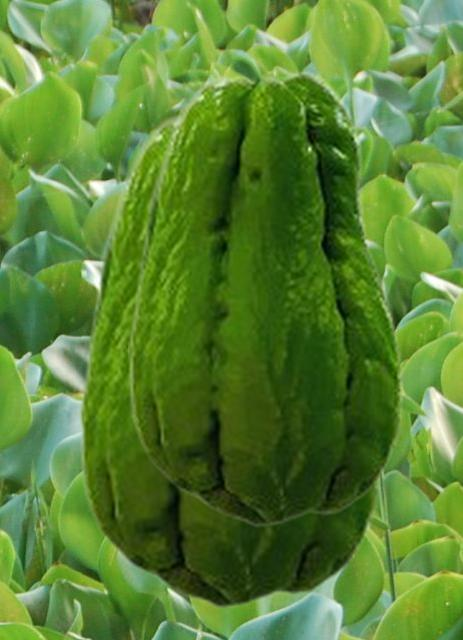sayote: (79, 108, 381, 609), (128, 69, 403, 527)
